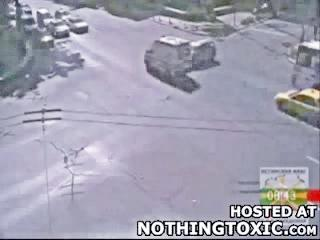Car: (144, 38, 194, 76), (274, 88, 319, 123), (289, 40, 320, 90), (189, 40, 218, 66), (46, 18, 70, 38), (63, 15, 88, 34), (21, 15, 39, 35), (144, 48, 158, 72), (36, 8, 52, 27), (36, 30, 52, 46), (20, 2, 33, 18), (55, 8, 70, 20)
Minor Accident: (144, 36, 220, 77)
